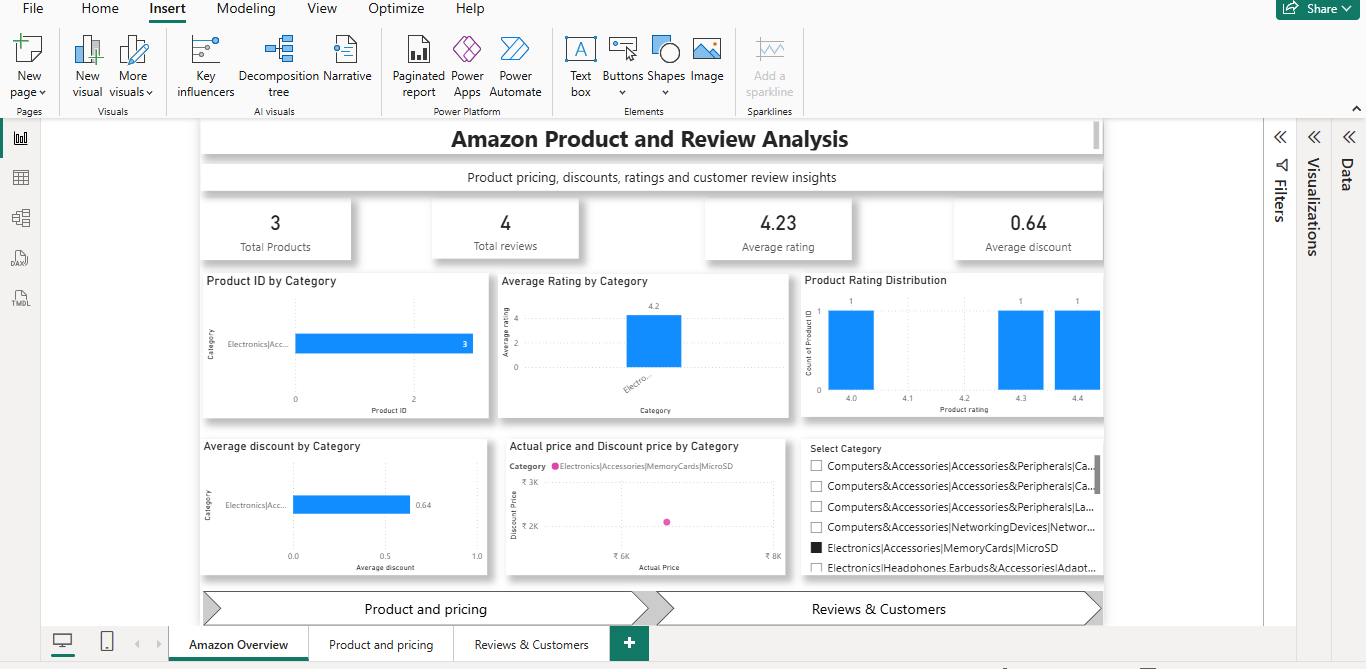

The page's visual inventory and layout, read from the dashboard file:
{"tool":"powerbi","page":{"name":"Amazon Overview","canvas":[1280,720],"ordinal":0},"visuals":[{"type":"card","fields":{"Values":["products.Total Products"]},"box":[0,113.4,214,87.9],"z":0},{"type":"card","fields":{"Values":["review.Total reviews"]},"box":[328.8,113.4,208.3,86.5],"z":1000},{"type":"card","fields":{"Values":["products.Average rating"]},"box":[715.7,113.4,208.3,87.9],"z":2000},{"type":"card","fields":{"Values":["products.Average discount"]},"box":[1068.7,113.4,211.2,87.9],"z":3000},{"type":"clusteredBarChart","title":"Product ID by Category","fields":{"Category":["products.Category"],"Y":["CountNonNull(products.Product ID)"]},"box":[4.3,219.7,405.4,205.5],"z":4000},{"type":"clusteredColumnChart","title":"Average Rating by Category","fields":{"Category":["products.Category"],"Y":["products.Average rating"]},"box":[422.4,221.1,412.4,204.1],"z":5000},{"type":"clusteredColumnChart","title":"Product Rating Distribution","fields":{"Category":["products.Product rating"],"Y":["CountNonNull(products.Product ID)"]},"box":[851.1,220,428.9,204.4],"z":6000},{"type":"clusteredBarChart","fields":{"Category":["products.Category"],"Y":["products.Average discount"]},"box":[0,455.6,406.7,193.3],"z":7000},{"type":"scatterChart","title":"Actual price and Discount price by Category","fields":{"X":["Sum(products.Original Price)"],"Y":["Sum(products.Selling price)"],"Series":["products.Category"]},"box":[433.3,455.6,395.6,193.3],"z":8000},{"type":"textbox","box":[1.4,0,1278.4,51],"z":9000},{"type":"textbox","box":[1.4,65.2,1278.4,38.3],"z":10000},{"type":"slicer","title":"Select Category","fields":{"Values":["products.Category"]},"box":[851.1,455.6,428.9,193.3],"z":11000},{"type":"pageNavigator","box":[4.5,670.3,1275.5,49.3],"z":12000}]}

Visuals, with their boxes on the page's 1280x720 design canvas (x1, y1, x2, y2). These are canvas units, not pixel positions in the 1366x669 screenshot, which may show the page scaled, cropped or inside an application window:
card - products.Total Products: bbox(0, 113, 214, 201)
card - review.Total reviews: bbox(329, 113, 537, 200)
card - products.Average rating: bbox(716, 113, 924, 201)
card - products.Average discount: bbox(1069, 113, 1280, 201)
"Product ID by Category" clusteredBarChart: bbox(4, 220, 410, 425)
"Average Rating by Category" clusteredColumnChart: bbox(422, 221, 835, 425)
"Product Rating Distribution" clusteredColumnChart: bbox(851, 220, 1280, 424)
clusteredBarChart - products.Category x products.Average discount: bbox(0, 456, 407, 649)
"Actual price and Discount price by Category" scatterChart: bbox(433, 456, 829, 649)
textbox: bbox(1, 0, 1280, 51)
textbox: bbox(1, 65, 1280, 104)
"Select Category" slicer: bbox(851, 456, 1280, 649)
pageNavigator: bbox(4, 670, 1280, 720)
